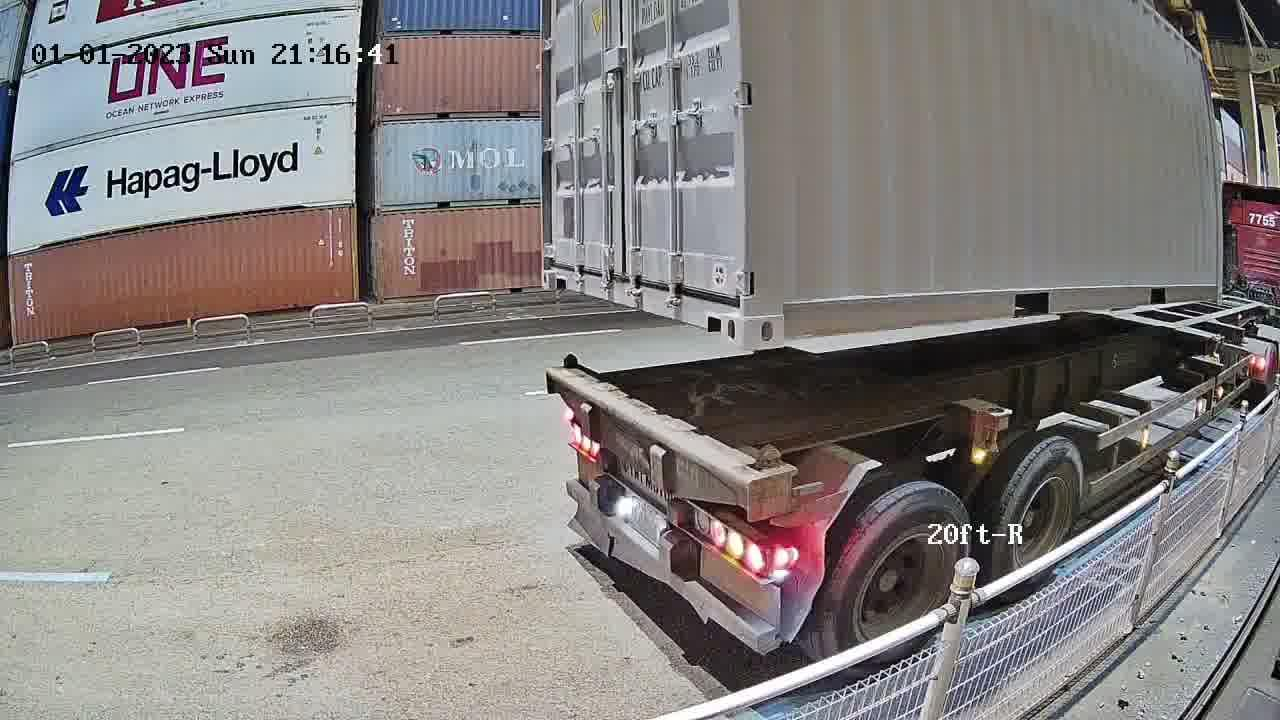Chassis: (549, 368, 754, 510)
Cone: (749, 442, 790, 511), (557, 349, 580, 386)
Hole_L: (745, 274, 818, 349), (542, 248, 576, 291)
Hole_R: (697, 270, 745, 353)
Tire: (827, 485, 966, 643), (997, 440, 1083, 570)
